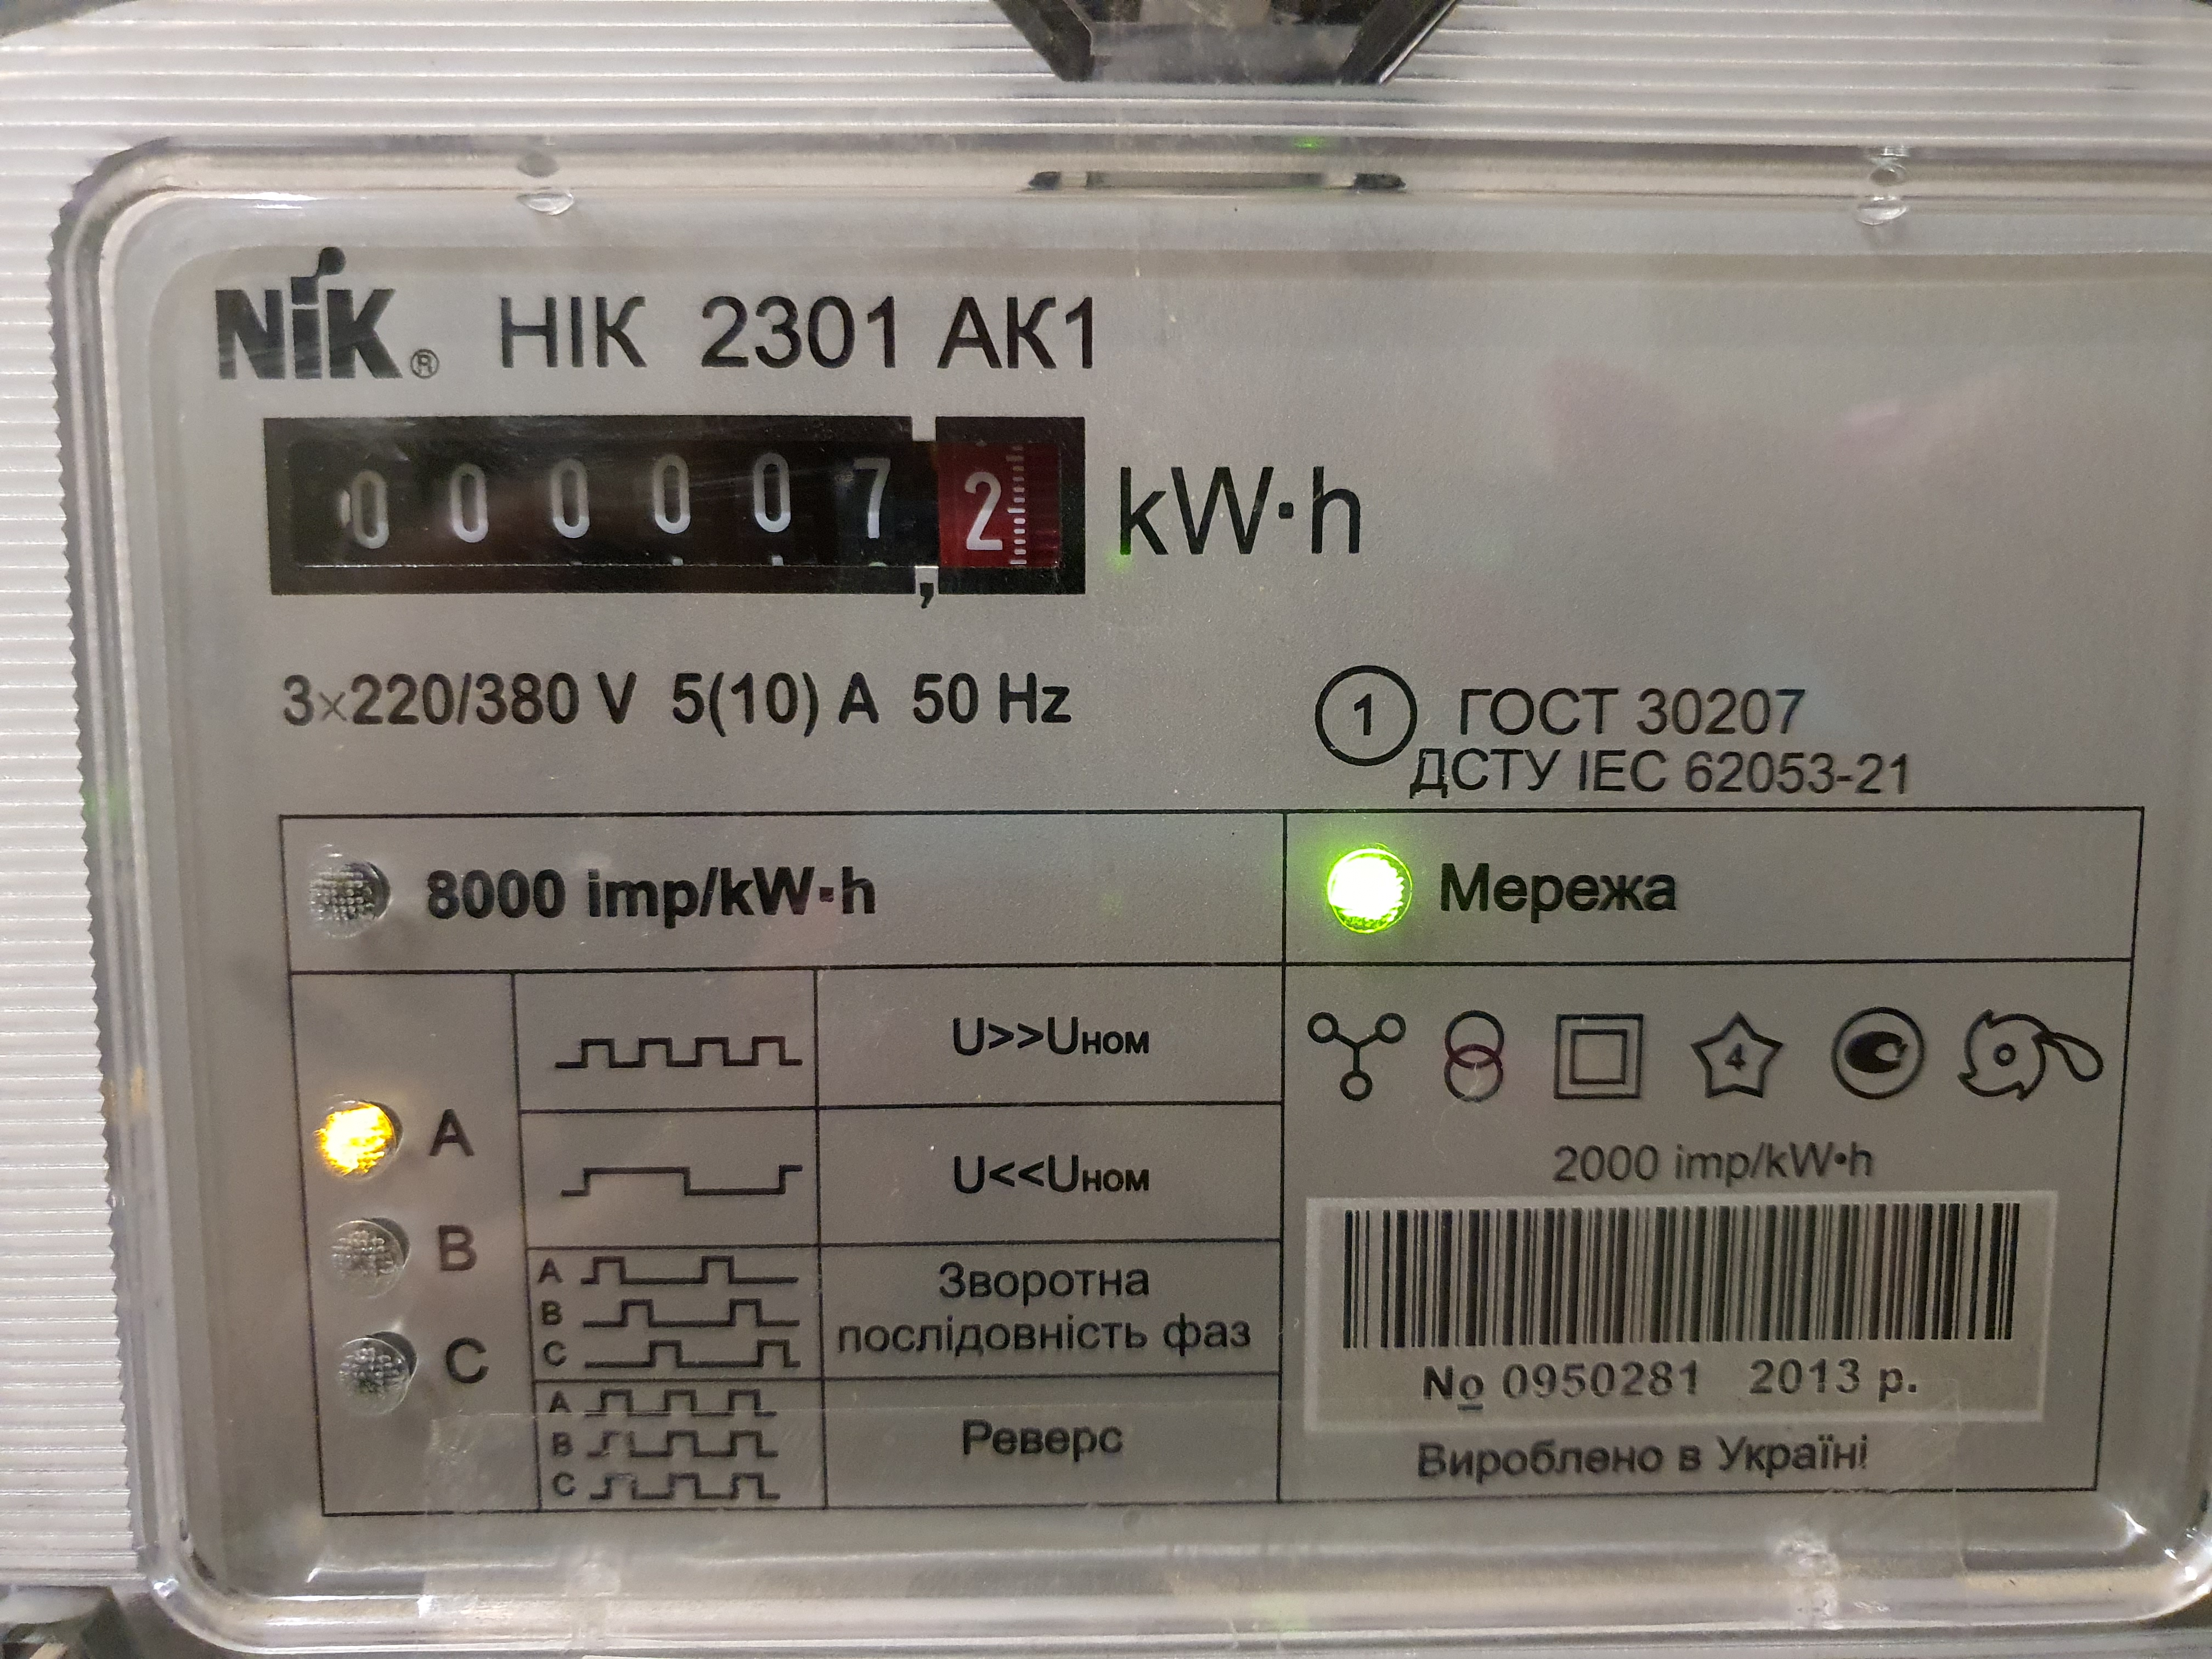0: (439, 457, 500, 547), (744, 448, 799, 538), (543, 451, 597, 542), (644, 448, 698, 538), (343, 465, 397, 552)
2: (958, 469, 1010, 556)
7: (846, 450, 897, 545)
screen: (233, 385, 1122, 629)
